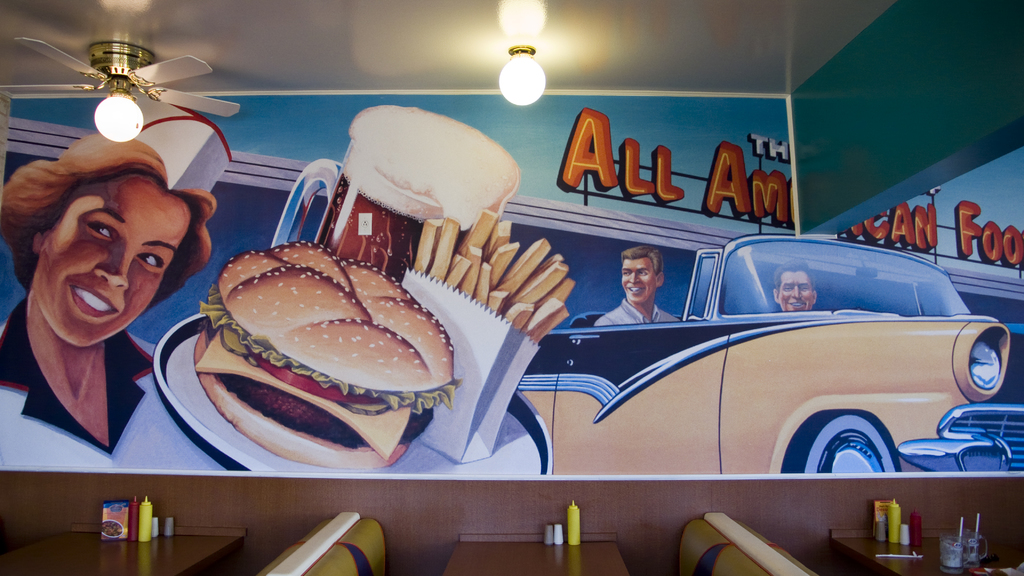Hamburger: (193, 240, 465, 467)
